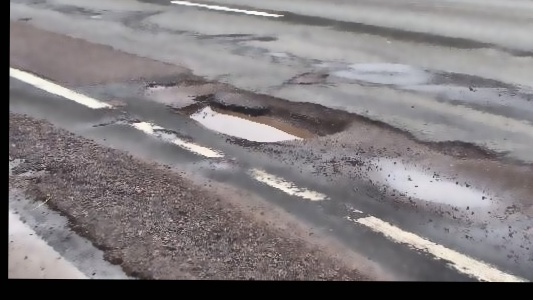pothole: (175, 90, 350, 147), (427, 138, 494, 163), (143, 79, 175, 91)
